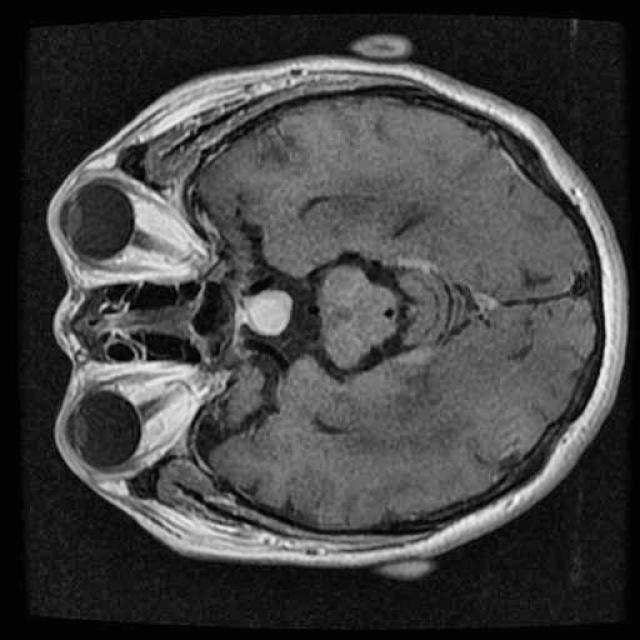Tumor: (240, 281, 301, 350)
